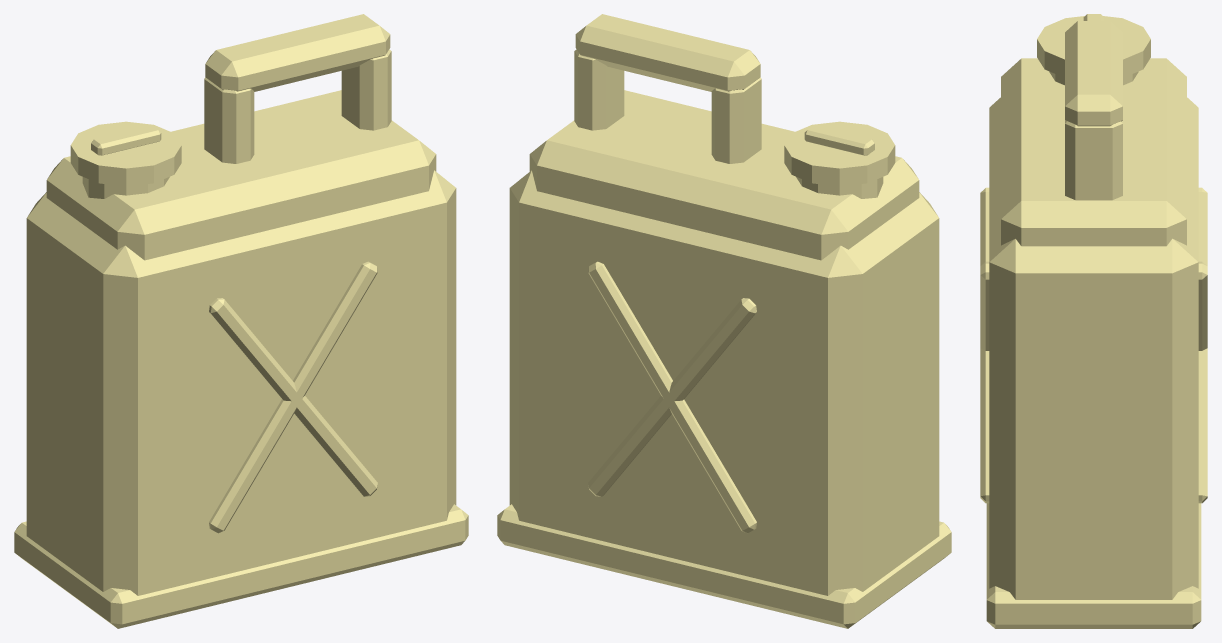
Rendered from FuelJerryCan.fbx.
The picture shows the model from 3 angles, left to right: view 1: azimuth 30°, elevation 25°; view 2: azimuth 150°, elevation 25°; view 3: azimuth 270°, elevation 25°; orthographic projection. The views are drawn at different scales.
Visible parts, largest first — view 1: FuelJerryCan; view 2: FuelJerryCan; view 3: FuelJerryCan.
Boxes of the visible parts, bbox=[...] form: FuelJerryCan: bbox=[14, 14, 468, 628]; FuelJerryCan: bbox=[497, 14, 951, 628]; FuelJerryCan: bbox=[980, 14, 1207, 628].
Bounding box in the file's own units: 74.49 × 100 × 39.9.
